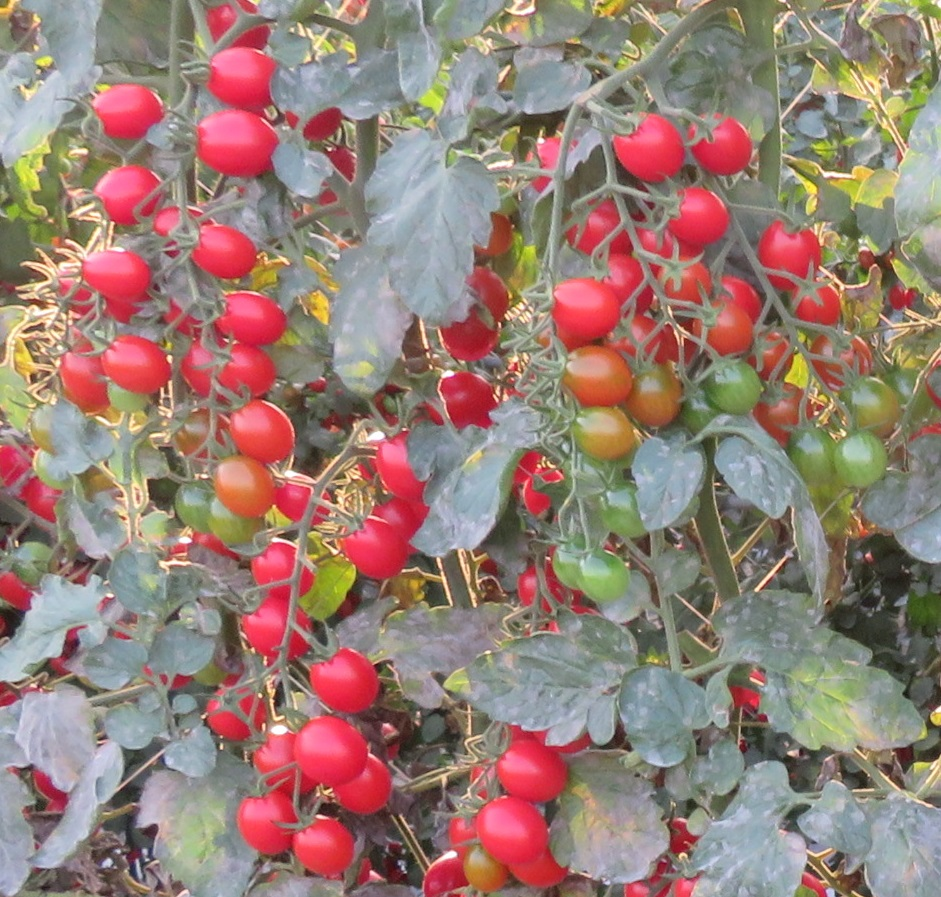green: (707, 357, 768, 419), (829, 431, 892, 489), (835, 380, 901, 435), (579, 551, 633, 604), (27, 400, 72, 457), (791, 426, 832, 487), (207, 502, 258, 550), (11, 539, 56, 587), (173, 481, 209, 531), (552, 541, 579, 591)
orange: (550, 343, 637, 407), (99, 336, 179, 398), (224, 403, 299, 467), (208, 451, 276, 519), (559, 405, 638, 458), (757, 380, 813, 444), (690, 298, 754, 354), (813, 332, 873, 387), (637, 367, 681, 430), (657, 255, 713, 304), (465, 855, 508, 891)
red: (184, 108, 278, 178), (471, 793, 550, 864), (286, 722, 374, 783), (72, 241, 156, 303), (304, 649, 380, 717), (610, 116, 688, 182), (493, 741, 573, 805), (87, 81, 171, 140), (688, 111, 755, 182), (550, 279, 623, 344), (252, 726, 318, 796), (757, 220, 823, 290), (240, 597, 312, 661), (333, 520, 411, 578), (206, 47, 278, 109), (212, 293, 290, 347), (198, 680, 267, 741), (94, 163, 163, 224), (251, 538, 314, 600), (333, 752, 392, 816), (185, 228, 259, 278), (218, 345, 284, 401), (236, 787, 287, 859), (291, 822, 356, 878), (596, 253, 655, 314), (667, 188, 732, 243), (374, 431, 425, 500), (428, 369, 491, 423), (437, 310, 503, 361), (59, 345, 107, 414), (206, 1, 270, 51), (275, 471, 331, 527), (785, 279, 844, 325), (20, 474, 67, 527), (153, 204, 218, 237), (286, 106, 342, 141), (623, 861, 676, 897), (56, 278, 93, 313), (885, 283, 920, 310)
